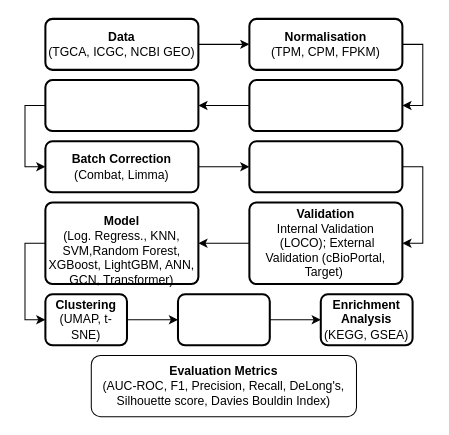
Some shapes in this 449 by 435 pixel diagram are drawn without their labels. The box of each missing label's shape, as (x1, y1, x2, y2) in pixels:
Data Imputation (KNN, MissForest): (248, 79, 403, 132)
Explainable AI (Tree SHAP, Deep SHAP): (176, 293, 270, 346)
Feature Selection: (MAD, CV); Multi-Omic Integration (MOFA+, NMF): (248, 140, 403, 193)
LOCO Strategy and Horizontal Integration: (44, 79, 199, 132)
